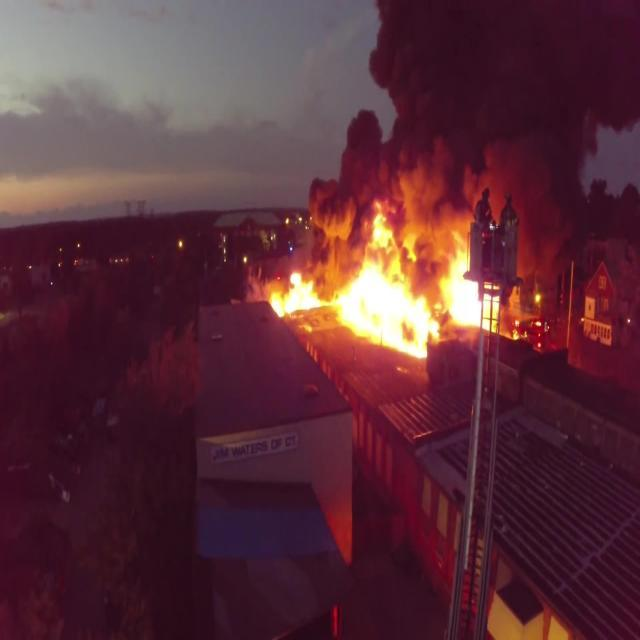Fire: (230, 108, 559, 364)
Smoke: (312, 0, 640, 134)
